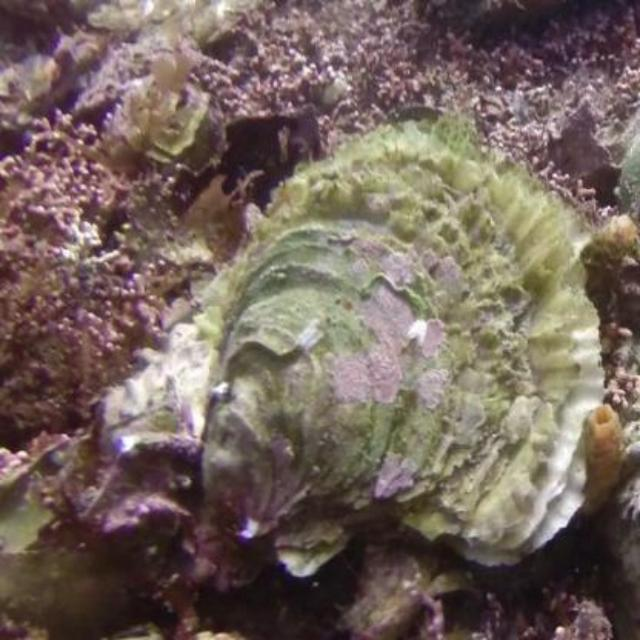Oyster-Closed: (200, 119, 609, 570)
